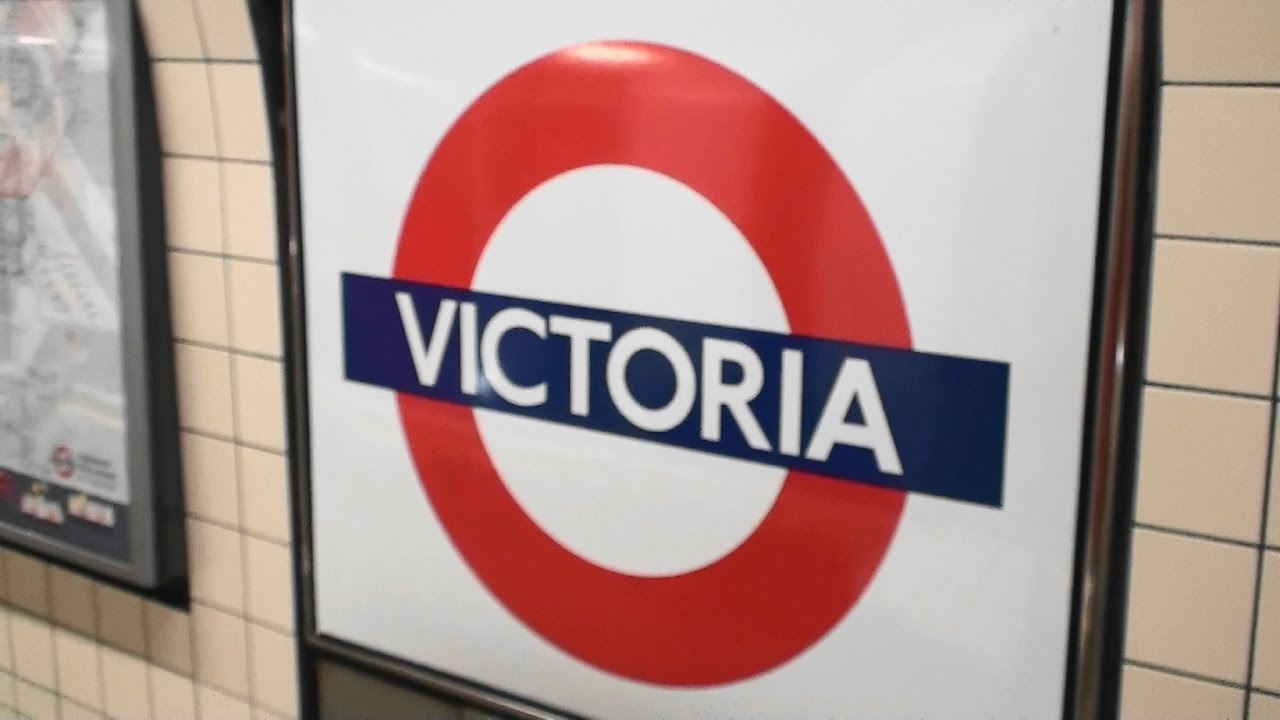London Underground: (343, 41, 1011, 692)
